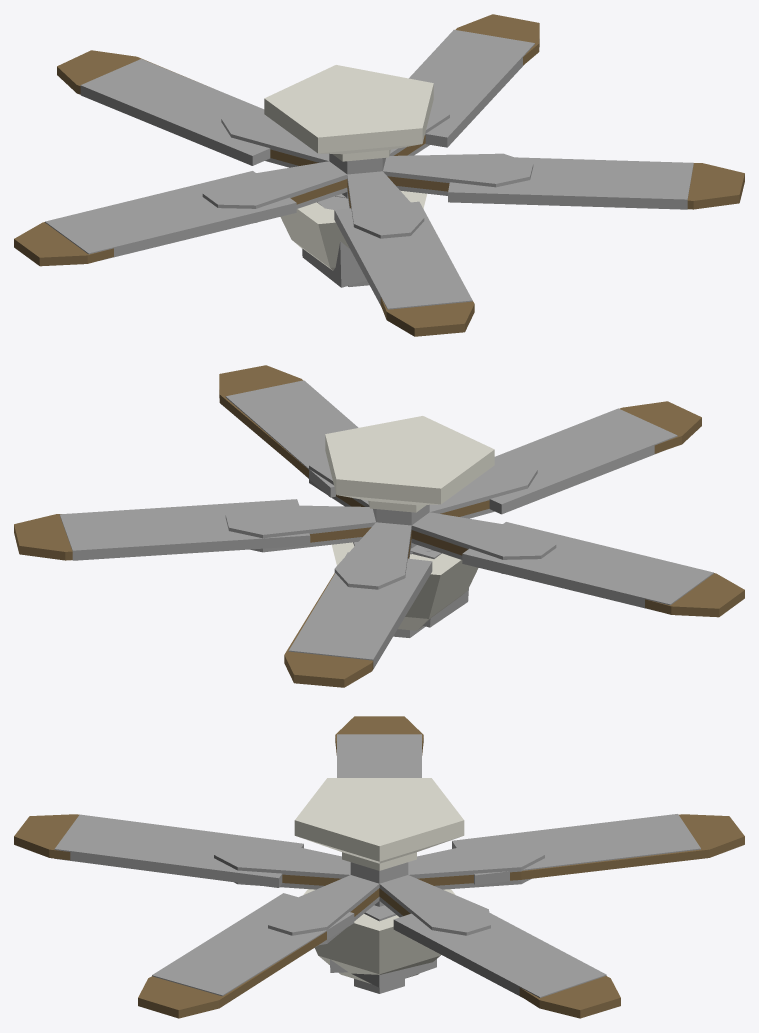
The model's file is CeilingFan.fbx.
3 views of the same model, one above another, from view 1: azimuth 30°, elevation 25°; view 2: azimuth 150°, elevation 25°; view 3: azimuth 270°, elevation 25° (orthographic). The views are drawn at different scales.
Parts seen in each view (by area): view 1: fan, fanPart4, fanPart1, fanPart2, fanPart3, fanPart5, lamp2; view 2: fan, fanPart5, fanPart1, fanPart3, fanPart2, fanPart4, lamp2; view 3: fan, fanPart3, fanPart5, fanPart4, fanPart2, fanPart1, lamp1.
Part boxes in pixels (x1,y1,x2,y2): fan: [14, 14, 744, 336]; fanPart4: [448, 157, 693, 209]; fanPart1: [45, 171, 296, 260]; fanPart2: [80, 59, 270, 165]; fanPart3: [334, 201, 472, 309]; fanPart5: [409, 29, 534, 147]; lamp2: [302, 196, 366, 287]; fan: [14, 365, 744, 687]; fanPart5: [59, 499, 310, 560]; fanPart1: [462, 522, 713, 611]; fanPart3: [489, 408, 677, 514]; fanPart2: [288, 552, 432, 669]; fanPart4: [225, 380, 358, 497]; lamp2: [410, 545, 468, 627]; fan: [14, 716, 744, 1018]; fanPart3: [54, 814, 303, 887]; fanPart5: [393, 912, 606, 997]; fanPart4: [152, 893, 354, 996]; fanPart2: [452, 814, 700, 885]; fanPart1: [337, 734, 421, 777]; lamp1: [351, 905, 436, 987].
Size of the model in its own units: 17.08 by 4.85 by 17.96.
